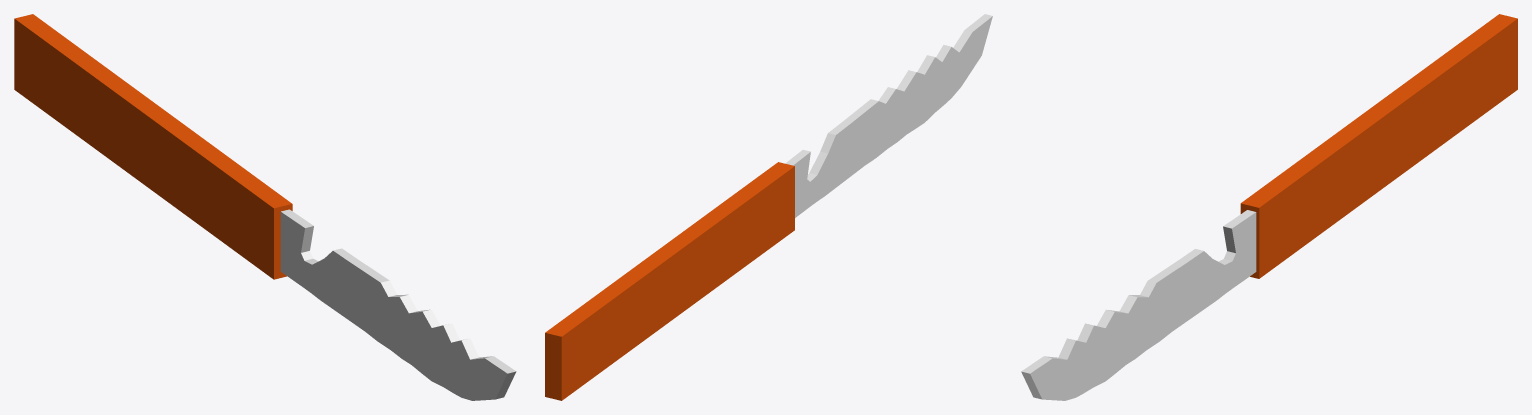
Rendered from FishermanKnife.fbx.
3 views of the same model, side by side, from view 1: azimuth 30°, elevation 25°; view 2: azimuth 150°, elevation 25°; view 3: azimuth 330°, elevation 25° (orthographic). The views are drawn at different scales.
Visible parts, largest first — view 1: Cube.001, Cube; view 2: Cube.001, Cube; view 3: Cube.001, Cube.
Part boxes in pixels (x1,y1,x2,y2): Cube.001: (14, 14, 292, 279); Cube: (280, 209, 516, 400); Cube.001: (545, 162, 794, 400); Cube: (785, 14, 992, 217); Cube.001: (1240, 14, 1517, 278); Cube: (1021, 210, 1256, 400).
Size of the model in its own units: 9.79 by 36.01 by 442.
